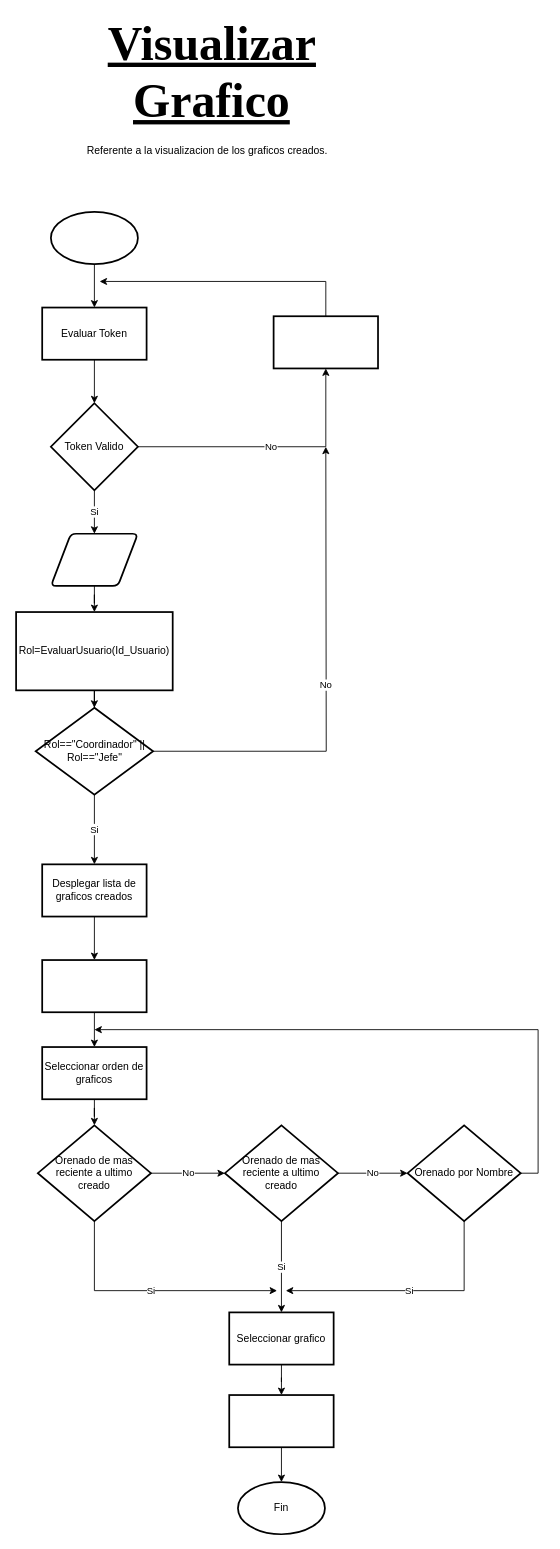
Image size: 560x1549. Some labels were removed from this diagram. Here are the shapes that lost their labels. From the top down, the centre of each, then its label:
[94,237]: Inicio
[325,342]: Acceso No Autorizado
[94,559]: Int Rol
[94,986]: Desplegar opcion de visualizacion
[281,1421]: Desplegar grafico
